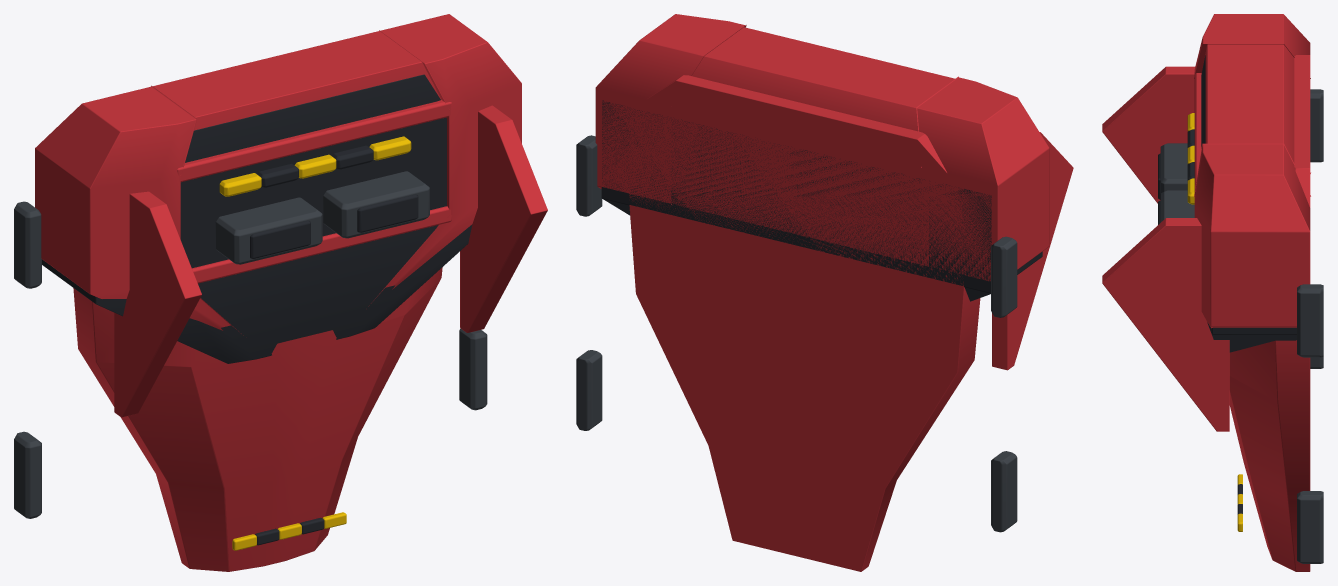
Rendered from BodyBack_Set05_Afterburn.fbx.
The picture shows the model from 3 angles, left to right: view 1: azimuth 30°, elevation 25°; view 2: azimuth 150°, elevation 25°; view 3: azimuth 270°, elevation 25°; orthographic projection. The views are drawn at different scales.
Visible parts, largest first — view 1: BodyBack_Set05_Afterburn; view 2: BodyBack_Set05_Afterburn; view 3: BodyBack_Set05_Afterburn.
Part boxes in pixels (x1,y1,x2,y2): BodyBack_Set05_Afterburn: (14,14,547,571); BodyBack_Set05_Afterburn: (576,14,1073,571); BodyBack_Set05_Afterburn: (1102,14,1323,571).
Size of the model in its own units: 1.07 by 1.1 by 0.4945.
